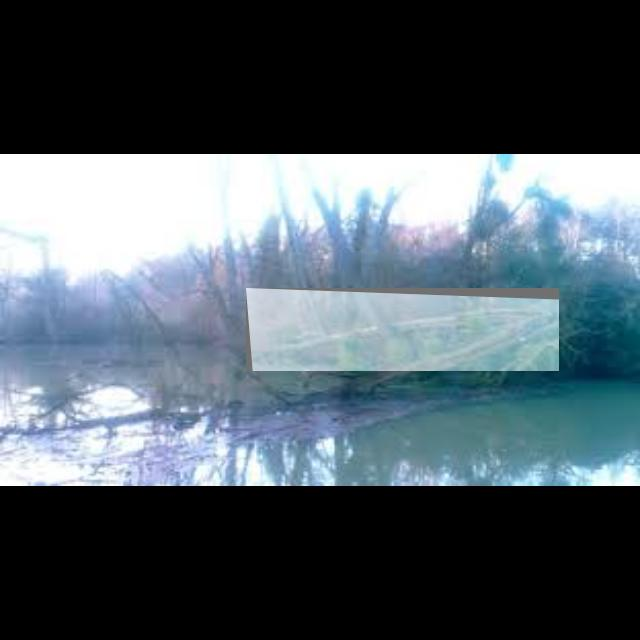Fallen Tree: (246, 288, 560, 372)
